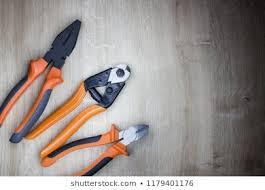pliers: (0, 18, 81, 142), (38, 122, 149, 175)
